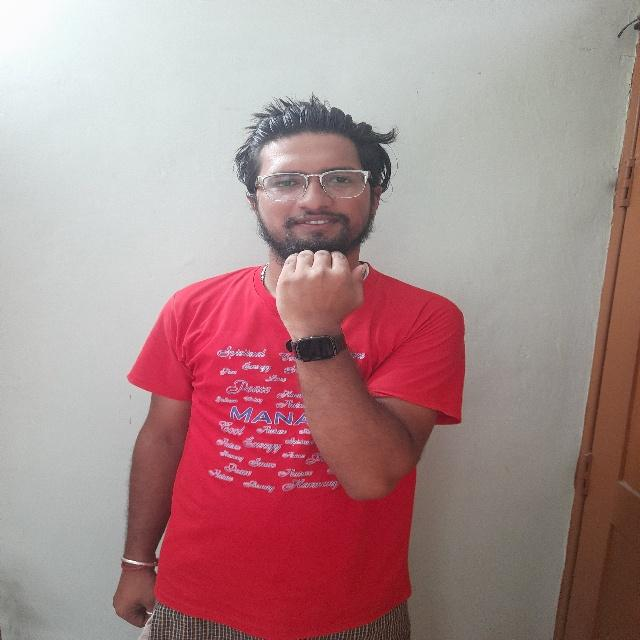Chin Flick: (222, 96, 403, 343)
